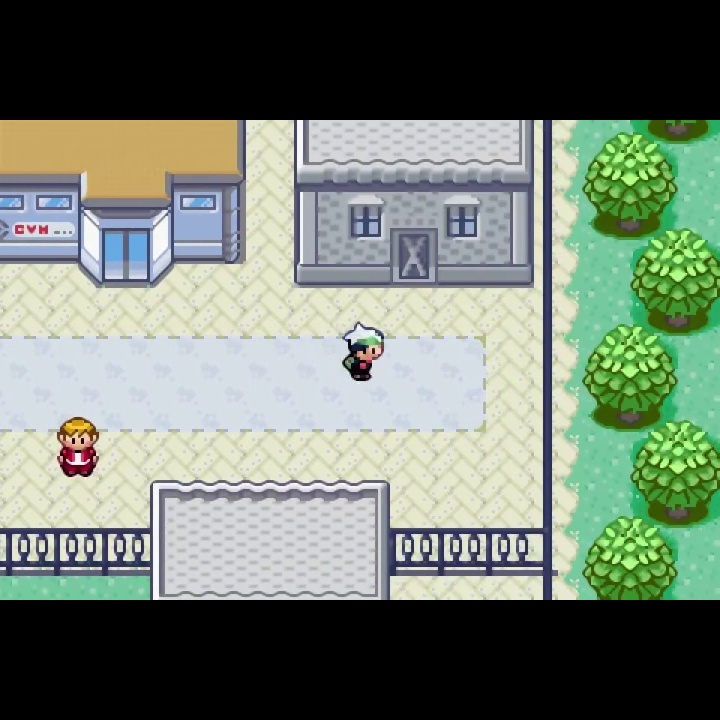gym: (1, 120, 248, 289)
house: (289, 121, 537, 289), (146, 478, 393, 598)
npc: (336, 320, 386, 386), (53, 414, 102, 480)
wall: (583, 131, 676, 240), (630, 229, 720, 338), (584, 325, 676, 430), (631, 420, 720, 528), (582, 517, 676, 599), (633, 120, 720, 146)
